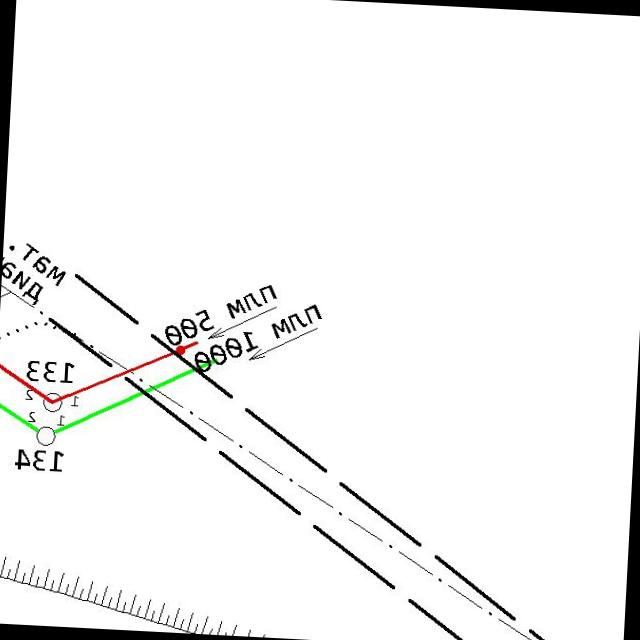well: (40, 390, 66, 414), (34, 424, 58, 449)
